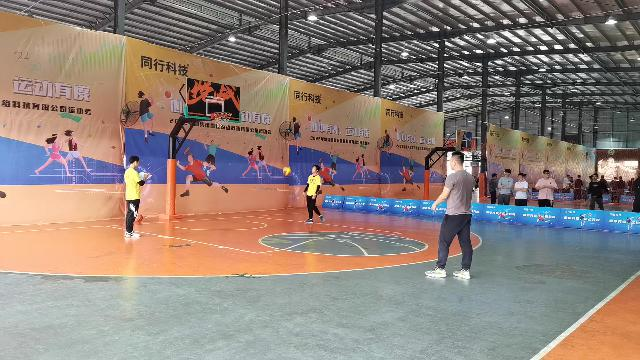ball: (283, 166, 291, 176), (136, 214, 142, 222)
basket: (212, 112, 232, 126)
